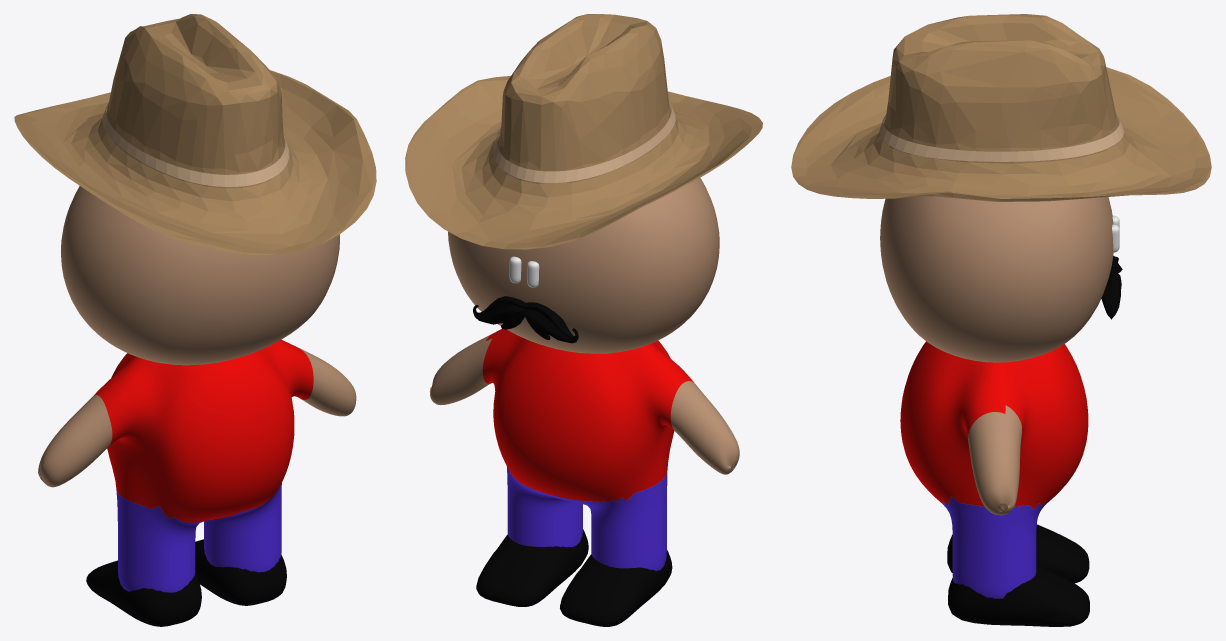
Rendered from Enemie.fbx.
3 views of the same model, side by side, from view 1: azimuth 30°, elevation 25°; view 2: azimuth 150°, elevation 25°; view 3: azimuth 270°, elevation 25° (orthographic). The views are drawn at different scales.
Parts seen in each view (by area): view 1: Hat, Cube.001, Cube, Torus.001, Torus.002, ring; view 2: Hat, Cube.001, Cube, Torus.002, Torus.001, Sphere, ring; view 3: Hat, Cube.001, Cube, Torus.002, ring, Torus.001, Sphere.
Boxes of the visible parts, x1,y1,x2,y2 form: Hat: (14, 14, 376, 254); Cube.001: (38, 339, 356, 592); Cube: (61, 186, 339, 365); Torus.001: (86, 560, 201, 626); Torus.002: (195, 539, 286, 605); ring: (102, 102, 289, 186); Hat: (405, 14, 762, 249); Cube.001: (429, 328, 739, 570); Cube: (448, 178, 719, 353); Torus.002: (476, 529, 588, 606); Torus.001: (560, 550, 672, 626); Sphere: (473, 296, 578, 343); ring: (493, 101, 675, 182); Hat: (791, 14, 1211, 201); Cube.001: (900, 341, 1088, 598); Cube: (880, 196, 1113, 362); Torus.002: (948, 565, 1089, 626); ring: (879, 113, 1123, 161); Torus.001: (947, 524, 1089, 583); Sphere: (1101, 256, 1122, 319).
Size of the model in its own units: 672 by 1168 by 783.
